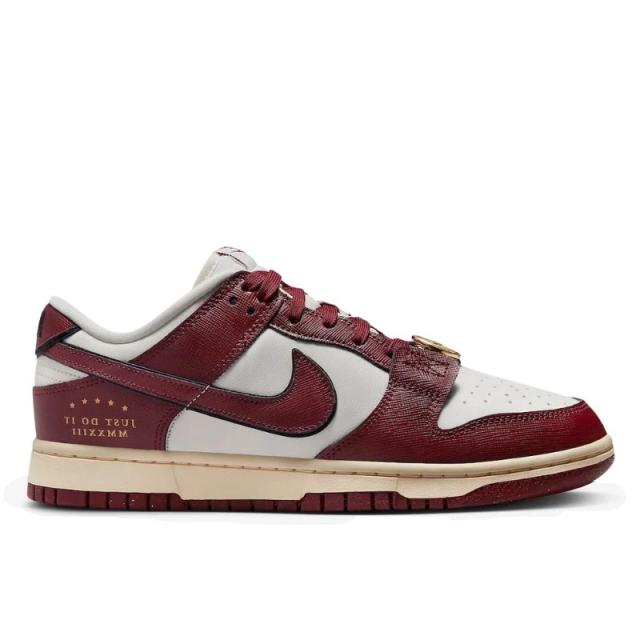nike: (82, 344, 344, 443)
